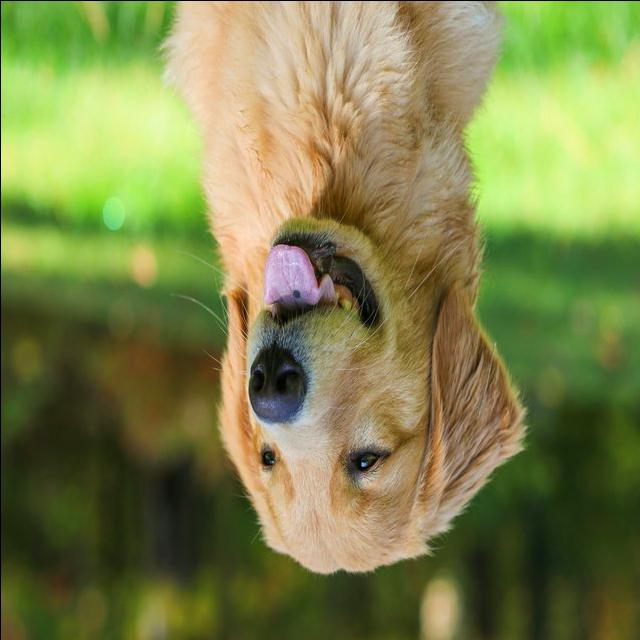retriever: (157, 2, 529, 577)
